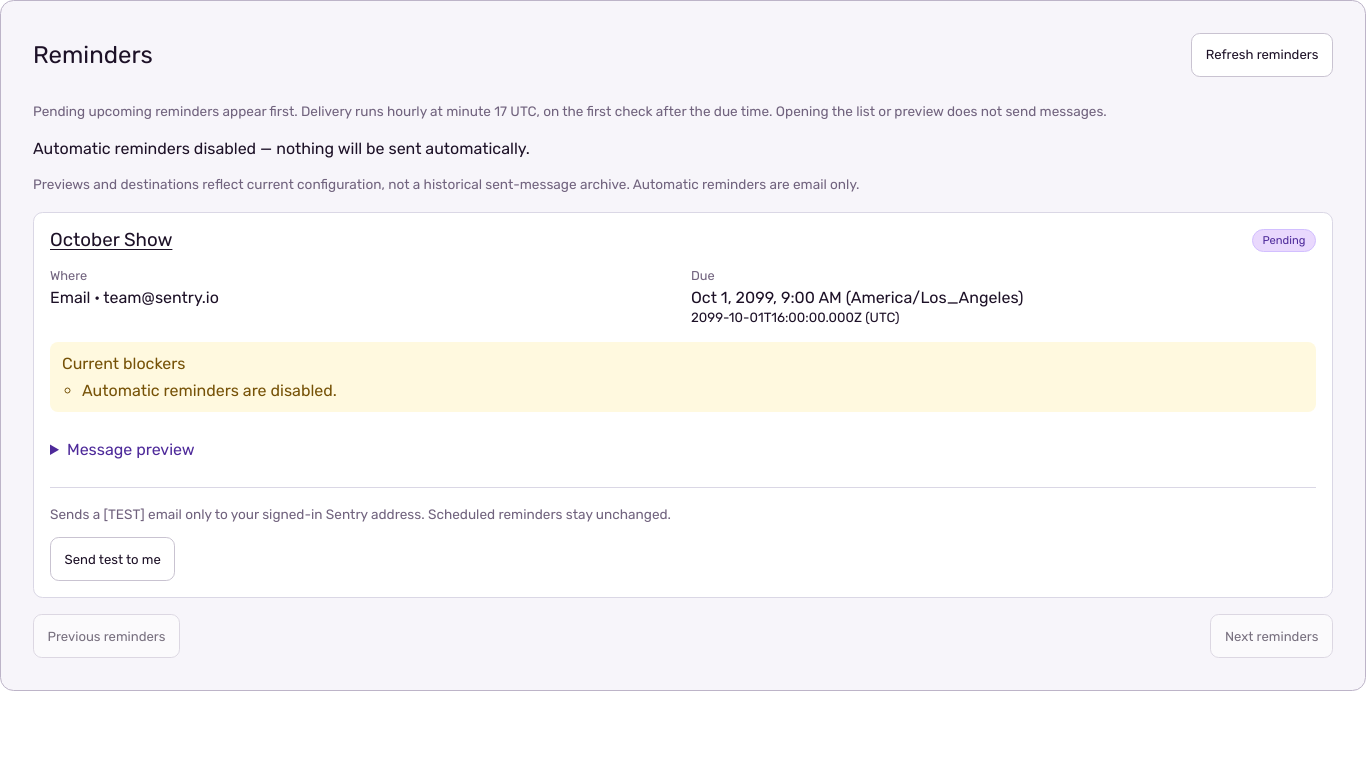
Test: sends a personal test from the reminder card and reuses the attempt after a network error
Click the button "Send test to me" at (113, 560), box 50,538 -> 175,582
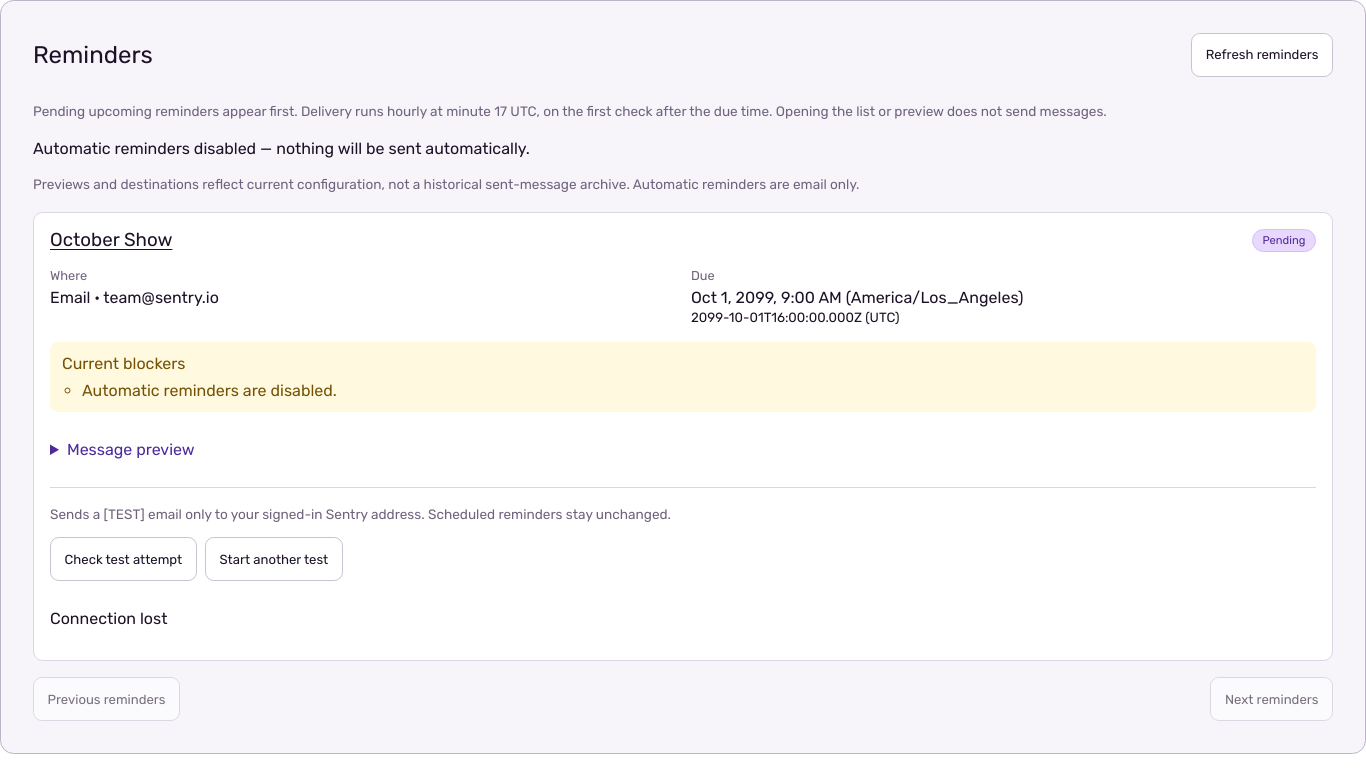
Result: the message "Connection lost" is shown at 50,610 -> 167,628
Click the button "Check test attempt" at (123, 560), box 50,538 -> 197,582
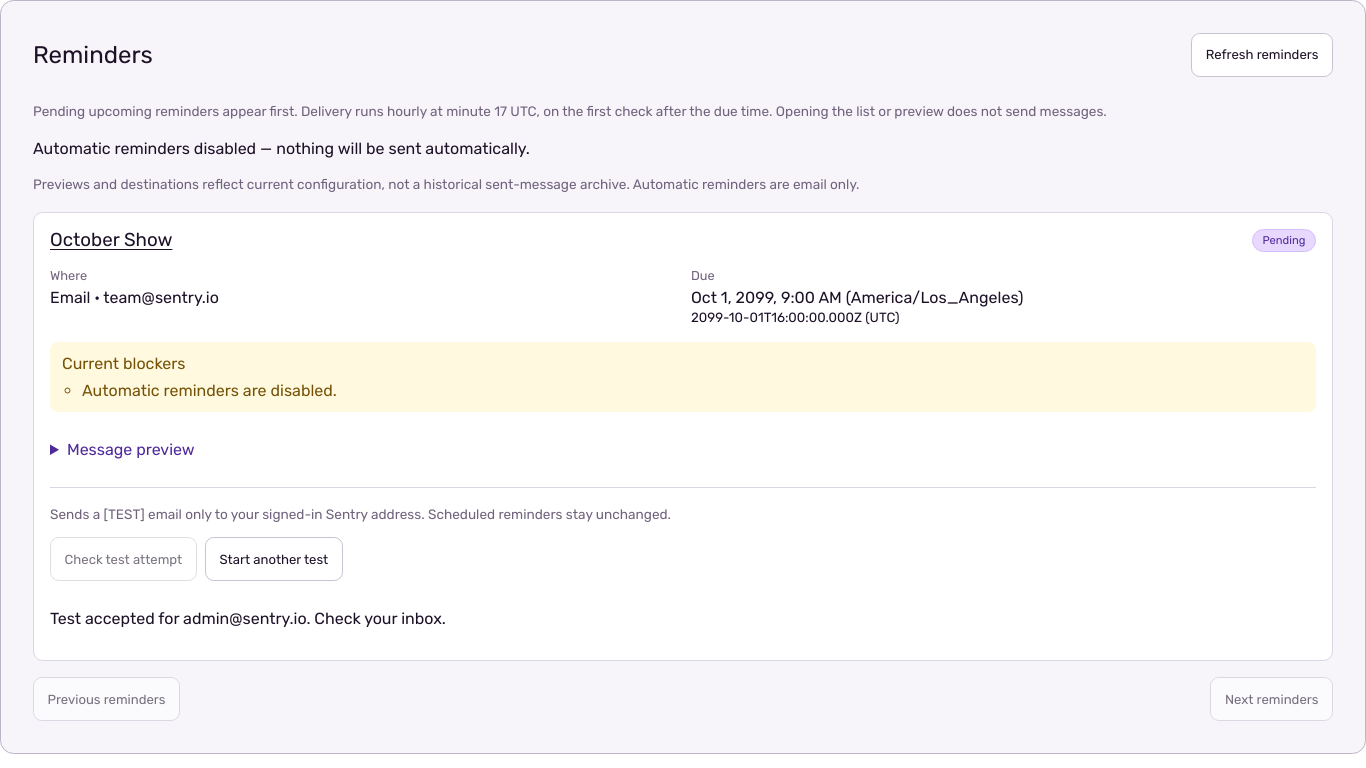
Result: the text "Test accepted for admin@sentry.io. Check your inbox." is shown at 50,610 -> 446,628
Result: the button "Check test attempt" is disabled at 50,538 -> 197,582
